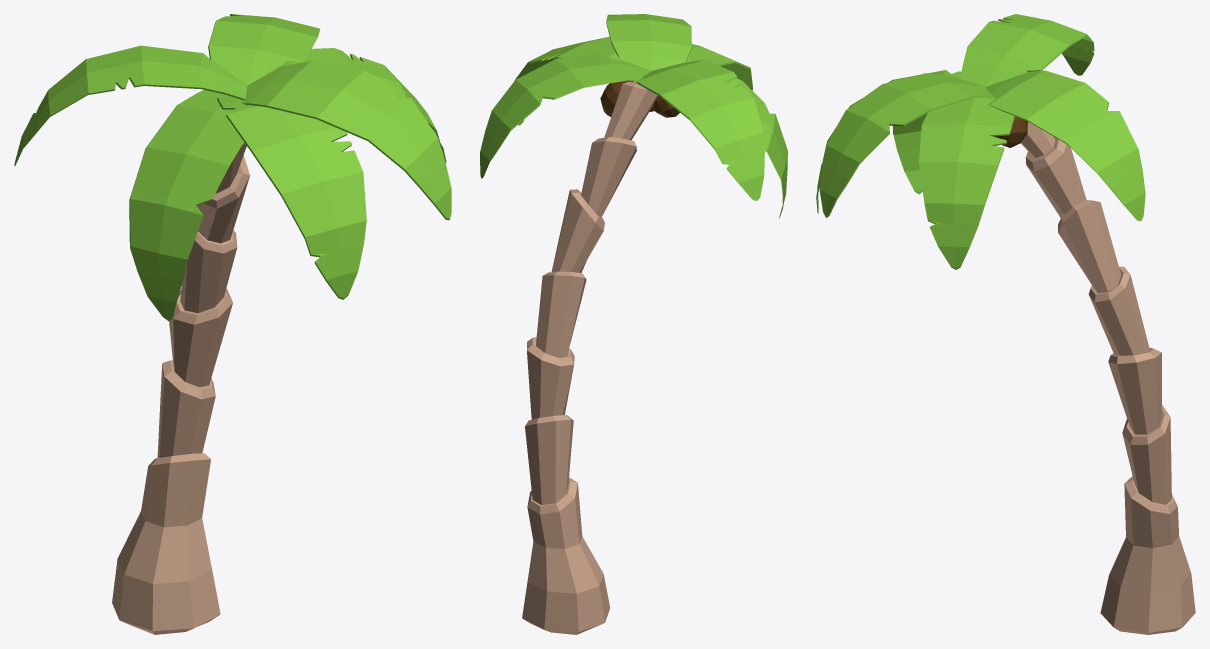
Rendered from Coconut Tree.fbx.
The picture shows the model from 3 angles, left to right: view 1: azimuth 30°, elevation 25°; view 2: azimuth 150°, elevation 25°; view 3: azimuth 270°, elevation 25°; orthographic projection. The views are drawn at different scales.
Visible parts, largest first — view 1: Coconut Tree; view 2: Coconut Tree; view 3: Coconut Tree.
Boxes of the visible parts, x1,y1,x2,y2 form: Coconut Tree: (14, 14, 451, 634); Coconut Tree: (480, 14, 787, 634); Coconut Tree: (816, 14, 1195, 634).
Bounding box in the file's own units: 1236 × 2063 × 1285.
